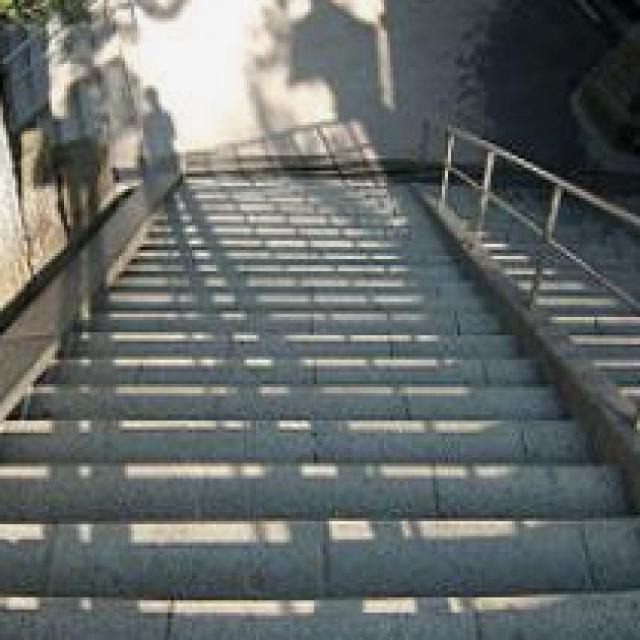downstair: (1, 424, 555, 640)
